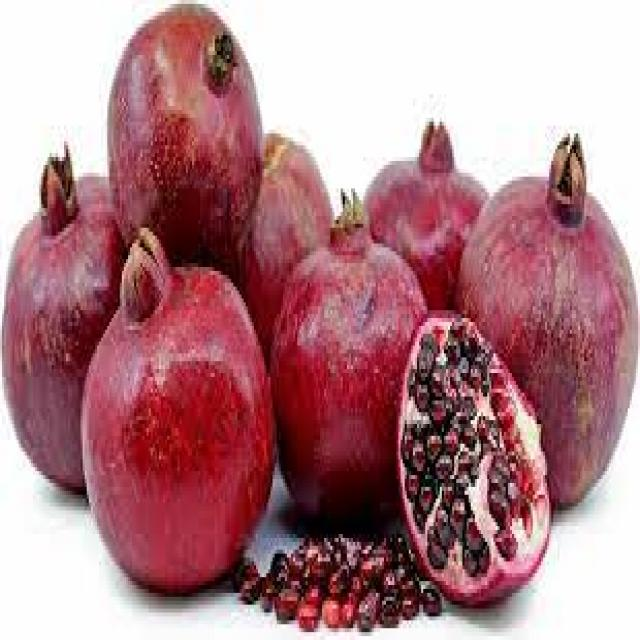pomegranate: (76, 236, 279, 604), (458, 130, 640, 522), (266, 200, 426, 554), (400, 306, 556, 613), (2, 149, 128, 507), (103, 4, 258, 287), (361, 102, 498, 310), (242, 102, 336, 357)
